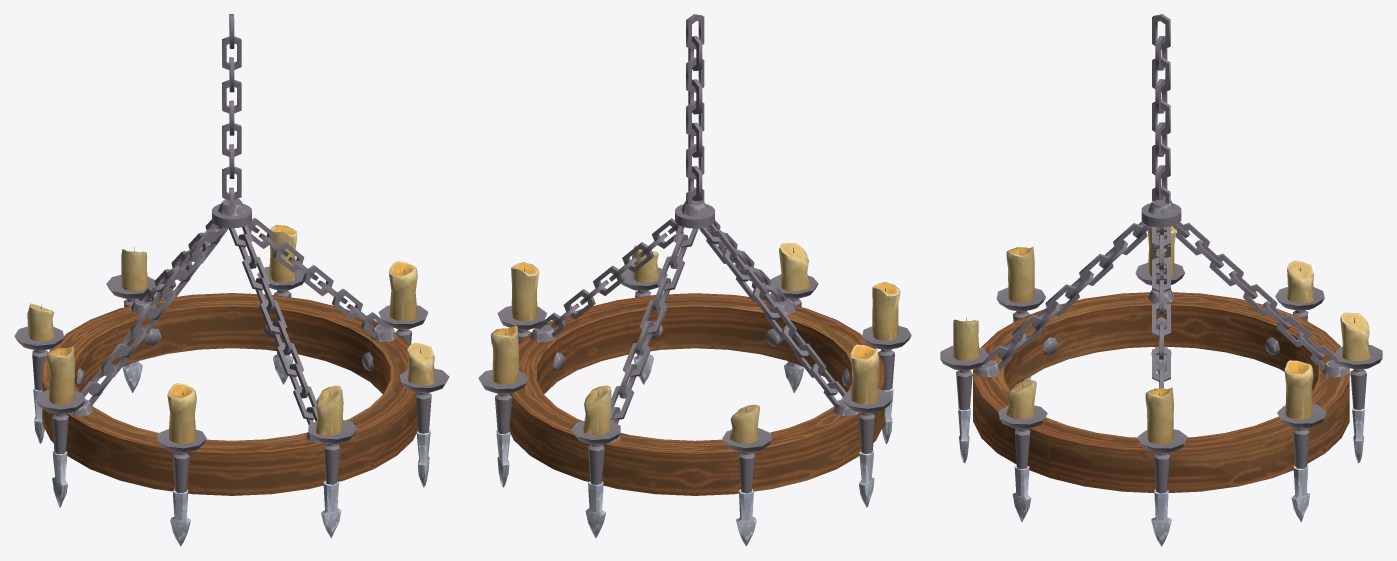
Rendered from Chandelier.fbx.
The picture shows the model from 3 angles, left to right: view 1: azimuth 30°, elevation 25°; view 2: azimuth 150°, elevation 25°; view 3: azimuth 270°, elevation 25°; orthographic projection.
Visible parts, largest first — view 1: Chandelier; view 2: Chandelier; view 3: Chandelier.
Boxes of the visible parts, <box> form: Chandelier: <box>14,14,449,546</box>; Chandelier: <box>478,14,911,546</box>; Chandelier: <box>940,14,1382,546</box>.
Bounding box in the file's own units: 130 × 146 × 130.
